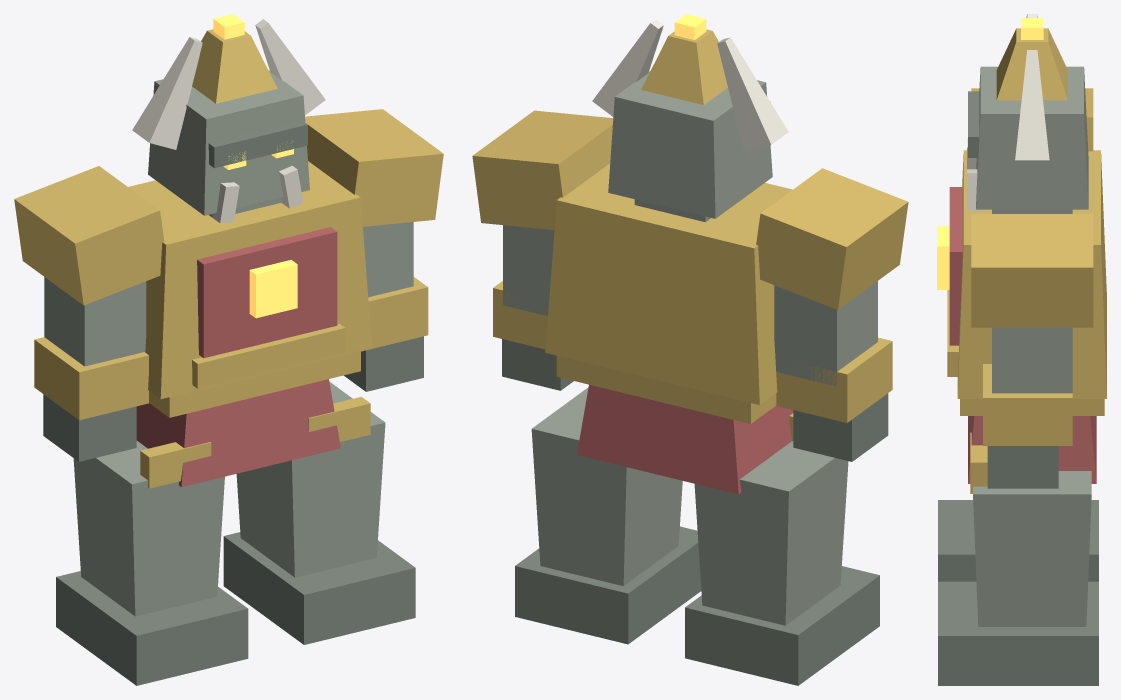
Rendered from boss-wat-arun.glb.
3 renders of one model, left to right at view 1: azimuth 30°, elevation 25°; view 2: azimuth 150°, elevation 25°; view 3: azimuth 270°, elevation 25°, orthographic.
Visible parts, largest first — view 1: boss-wat-arun; view 2: boss-wat-arun; view 3: boss-wat-arun.
Part boxes in pixels (x1=…): boss-wat-arun: x1=14, y1=14, x2=443, y2=685; boss-wat-arun: x1=472, y1=14, x2=908, y2=685; boss-wat-arun: x1=937, y1=14, x2=1106, y2=685.
Bounding box in the file's own units: 1.85 × 2.86 × 0.74.
